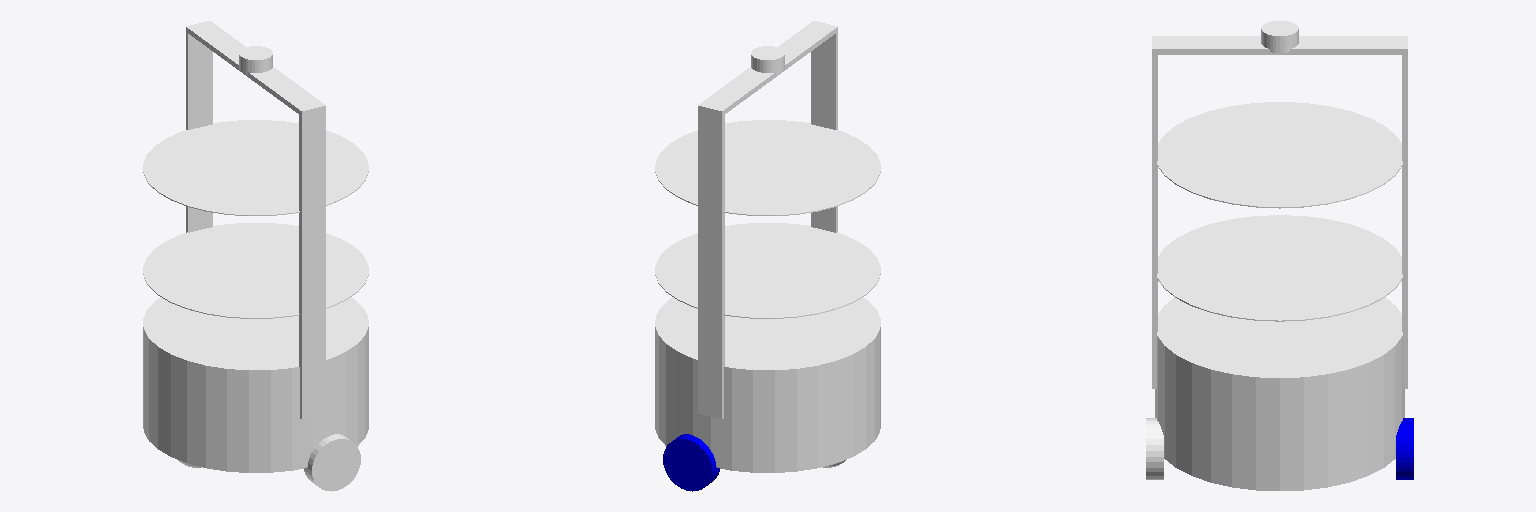
robot.urdf — serving_robot:
<?xml version="1.0" ?>
<!-- =================================================================================== -->
<!-- |    This document was autogenerated by xacro from [local-path]/ws_chickfac/src/serbot/urdf/serving_robot.xacro | -->
<!-- |    EDITING THIS FILE BY HAND IS NOT RECOMMENDED                                 | -->
<!-- =================================================================================== -->
<robot name="serving_robot">
  <!-- Specify some standard inertial calculations https://en.wikipedia.org/wiki/List_of_moments_of_inertia -->
  <!-- These make use of xacro's mathematical functionality -->
  <gazebo>
    <plugin filename="libgazebo_ros_diff_drive.so" name="diff_drive_controller">
      <ros>
        <namespace>robot</namespace>
        <remapping>cmd_vel:=/cmd_vel</remapping>
        <remapping>odom:=/odom</remapping>
      </ros>
      <!-- Wheel Information -->
      <left_joint>left_wheel_joint</left_joint>
      <right_joint>right_wheel_joint</right_joint>
      <wheel_separation>0.35</wheel_separation>
      <wheel_radius>0.05</wheel_radius>
      <wheel_diameter>0.1</wheel_diameter>
      <update_rate>50</update_rate>
      <!-- Limits -->
      <max_wheel_torque>200</max_wheel_torque>
      <max_wheel_acceleration>10.0</max_wheel_acceleration>
      <!-- Output -->
      <odometry_frame>odom</odometry_frame>
      <robot_base_frame>base_link</robot_base_frame>
      <publish_odom>true</publish_odom>
      <publish_odom_tf>true</publish_odom_tf>
      <publish_wheel_tf>true</publish_wheel_tf>
    </plugin>
  </gazebo>
  <gazebo reference="laser_frame">
    <material>Gazebo/White</material>
    <sensor name="laser" type="ray">
      <pose>0 0 0 0 0 0</pose>
      <visualize>true</visualize>
      <update_rate>10</update_rate>
      <ray>
        <scan>
          <horizontal>
            <samples>360</samples>
            <min_angle>-3.14</min_angle>
            <max_angle>3.14</max_angle>
          </horizontal>
        </scan>
        <range>
          <min>0.3</min>
          <max>12</max>
        </range>
      </ray>
      <plugin filename="libgazebo_ros_laser.so" name="laser">
        <ros>
          <namespace>robot</namespace>
          <remapping>scan:=/scan</remapping>
        </ros>
        <frame_name>laser_frame</frame_name>
        <update_rate>30</update_rate>
      </plugin>
    </sensor>
  </gazebo>
  <gazebo reference="imu_link">
    <material>Gazebo/White</material>
    <plugin filename="libgazebo_ros_imu_sensor.so" name="imu">
      <ros>
        <namespace>robot</namespace>
        <remapping>imu:=/imu/data</remapping>
      </ros>
      <frame_name>imu_link</frame_name>
      <update_rate>50</update_rate>
    </plugin>
  </gazebo>
  <!-- COLOR -->
  <material name="white">
    <color rgba="1 1 1 1"/>
  </material>
  <material name="blue">
    <color rgba="0 0 1 1"/>
  </material>
  <material name="black">
    <color rgba="0 0 0 1"/>
  </material>
  <material name="red">
    <color rgba="1 0 0 1"/>
  </material>
  <!-- BASE LINK -->
  <link name="base_link">
    </link>
  <!-- BODY LINK -->
  <joint name="body_joint" type="fixed">
    <parent link="base_link"/>
    <child link="body"/>
    <origin xyz="0 0 0"/>
  </joint>
  <link name="body">
    <visual>
      <origin xyz="0.0 0.0 0.1"/>
      <geometry>
        <cylinder length="0.2" radius="0.2"/>
      </geometry>
      <material name="white"/>
    </visual>
    <collision>
      <origin xyz="0.0 0.0 0.1"/>
      <geometry>
        <cylinder length="0.2" radius="0.2"/>
      </geometry>
    </collision>
    <inertial>
      <origin rpy="0 0 0" xyz="0.0 0.0 0.1"/>
      <mass value="5.0"/>
      <inertia ixx="0.06666666666666668" ixy="0.0" ixz="0.0" iyy="0.06666666666666668" iyz="0.0" izz="0.10000000000000002"/>
    </inertial>
  </link>
  <gazebo reference="body">
    <material>Gazebo/White</material>
  </gazebo>
  <!-- LEFT WHEEL LINK -->
  <joint name="left_wheel_joint" type="continuous">
    <parent link="base_link"/>
    <child link="left_wheel"/>
    <origin rpy="-1.5707963267948966 0 0" xyz="0.04 0.2 0"/>
    <axis xyz="0 0 1"/>
  </joint>
  <link name="left_wheel">
    <visual>
      <geometry>
        <cylinder length="0.03" radius="0.05"/>
      </geometry>
      <material name="blue"/>
    </visual>
    <collision>
      <geometry>
        <cylinder length="0.03" radius="0.05"/>
      </geometry>
    </collision>
    <inertial>
      <origin rpy="0 0 0" xyz="0 0 0"/>
      <mass value="0.2"/>
      <inertia ixx="0.00014000000000000001" ixy="0.0" ixz="0.0" iyy="0.00014000000000000001" iyz="0.0" izz="0.00025000000000000006"/>
    </inertial>
  </link>
  <gazebo reference="left_wheel">
    <material>Gazebo/Black</material>
  </gazebo>
  <!-- RIGHT WHEEL LINK -->
  <joint name="right_wheel_joint" type="continuous">
    <parent link="base_link"/>
    <child link="right_wheel"/>
    <origin rpy="1.5707963267948966 0 0" xyz="0.04 -0.2 0"/>
    <axis xyz="0 0 -1"/>
  </joint>
  <link name="right_wheel">
    <visual>
      <geometry>
        <cylinder length="0.03" radius="0.05"/>
      </geometry>
      <material name="white"/>
    </visual>
    <collision>
      <geometry>
        <cylinder length="0.03" radius="0.05"/>
      </geometry>
    </collision>
    <inertial>
      <origin rpy="0 0 0" xyz="0 0 0"/>
      <mass value="0.2"/>
      <inertia ixx="0.00014000000000000001" ixy="0.0" ixz="0.0" iyy="0.00014000000000000001" iyz="0.0" izz="0.00025000000000000006"/>
    </inertial>
  </link>
  <gazebo reference="right_wheel">
    <material>Gazebo/Black</material>
  </gazebo>
  <!-- CASTER WHEEL LINK -->
  <joint name="caster_wheel_joint" type="fixed">
    <parent link="body"/>
    <child link="caster_wheel"/>
    <origin xyz="-0.12 0 0"/>
  </joint>
  <link name="caster_wheel">
    <visual>
      <geometry>
        <sphere radius="0.05"/>
      </geometry>
      <material name="white"/>
    </visual>
    <collision>
      <geometry>
        <sphere radius="0.05"/>
      </geometry>
    </collision>
    <inertial>
      <origin rpy="0 0 0" xyz="0 0 0"/>
      <mass value="0.2"/>
      <inertia ixx="0.0002000000000000001" ixy="0.0" ixz="0.0" iyy="0.0002000000000000001" iyz="0.0" izz="0.0002000000000000001"/>
    </inertial>
  </link>
  <gazebo reference="caster_wheel">
    <material>Gazebo/Blue</material>
    <mu1 value="0.001"/>
    <mu2 value="0.001"/>
  </gazebo>
  <!-- LEFT PANEL LINK -->
  <joint name="left_panel_joint" type="fixed">
    <parent link="body"/>
    <child link="left_panel"/>
    <origin xyz="0 0.2 0.1"/>
  </joint>
  <link name="left_panel">
    <visual>
      <origin xyz="0.0 0.0 0.3"/>
      <geometry>
        <box size="0.05 0.01 0.6"/>
      </geometry>
      <material name="white"/>
    </visual>
    <collision>
      <origin xyz="0.0 0.0 0.3"/>
      <geometry>
        <box size="0.05 0.01 0.6"/>
      </geometry>
    </collision>
    <inertial>
      <origin rpy="0 0 0" xyz="0.0 0.0 0.3"/>
      <mass value="0.1"/>
      <inertia ixx="0.0030008333333333332" ixy="0.0" ixz="0.0" iyy="0.0030208333333333333" iyz="0.0" izz="2.166666666666667e-05"/>
    </inertial>
  </link>
  <gazebo reference="left_panel">
    <material>Gazebo/White</material>
  </gazebo>
  <!-- RIGHT PANEL LINK -->
  <joint name="right_panel_joint" type="fixed">
    <parent link="body"/>
    <child link="right_panel"/>
    <origin xyz="0 -0.2 0.1"/>
  </joint>
  <link name="right_panel">
    <visual>
      <origin xyz="0.0 0.0 0.3"/>
      <geometry>
        <box size="0.05 0.01 0.6"/>
      </geometry>
      <material name="white"/>
    </visual>
    <collision>
      <origin xyz="0.0 0.0 0.3"/>
      <geometry>
        <box size="0.05 0.01 0.6"/>
      </geometry>
    </collision>
    <inertial>
      <origin rpy="0 0 0" xyz="0.0 0.0 0.3"/>
      <mass value="0.1"/>
      <inertia ixx="0.0030008333333333332" ixy="0.0" ixz="0.0" iyy="0.0030208333333333333" iyz="0.0" izz="2.166666666666667e-05"/>
    </inertial>
  </link>
  <gazebo reference="right_panel">
    <material>Gazebo/White</material>
  </gazebo>
  <!-- TOP PANEL LINK -->
  <joint name="top_panel_joint" type="fixed">
    <parent link="right_panel"/>
    <child link="top_panel"/>
    <origin xyz="0 0.2 0.59"/>
  </joint>
  <link name="top_panel">
    <visual>
      <origin xyz="0.0 0.0 0.005"/>
      <geometry>
        <box size="0.05 0.4 0.01"/>
      </geometry>
      <material name="white"/>
    </visual>
    <collision>
      <origin xyz="0.0 0.0 0.005"/>
      <geometry>
        <box size="0.05 0.4 0.01"/>
      </geometry>
    </collision>
    <inertial>
      <origin rpy="0 0 0" xyz="0.0 0.0 0.005"/>
      <mass value="0.1"/>
      <inertia ixx="0.0013341666666666669" ixy="0.0" ixz="0.0" iyy="2.166666666666667e-05" iyz="0.0" izz="0.001354166666666667"/>
    </inertial>
  </link>
  <gazebo reference="top_panel">
    <material>Gazebo/White</material>
  </gazebo>
  <!-- TRAY1 LINK -->
  <joint name="tray1_joint" type="fixed">
    <parent link="right_panel"/>
    <child link="tray1"/>
    <origin xyz="0 0.2 0.2"/>
  </joint>
  <link name="tray1">
    <visual>
      <origin xyz="0.0 0.0 0.001"/>
      <geometry>
        <cylinder length="0.002" radius="0.2"/>
      </geometry>
      <material name="white"/>
    </visual>
    <collision>
      <origin xyz="0.0 0.0 0.001"/>
      <geometry>
        <cylinder length="0.002" radius="0.2"/>
      </geometry>
    </collision>
    <inertial>
      <origin rpy="0 0 0" xyz="0.0 0.0 0.001"/>
      <mass value="0.005"/>
      <inertia ixx="5.000166666666667e-05" ixy="0.0" ixz="0.0" iyy="5.000166666666667e-05" iyz="0.0" izz="0.00010000000000000002"/>
    </inertial>
  </link>
  <gazebo reference="tray1">
    <material>Gazebo/Black</material>
  </gazebo>
  <!-- TRAY2 LINK -->
  <joint name="tray2_joint" type="fixed">
    <parent link="right_panel"/>
    <child link="tray2"/>
    <origin xyz="0 0.2 0.4"/>
  </joint>
  <link name="tray2">
    <visual>
      <origin xyz="0.0 0.0 0.001"/>
      <geometry>
        <cylinder length="0.002" radius="0.2"/>
      </geometry>
      <material name="white"/>
    </visual>
    <collision>
      <origin xyz="0.0 0.0 0.001"/>
      <geometry>
        <cylinder length="0.002" radius="0.2"/>
      </geometry>
    </collision>
    <inertial>
      <origin rpy="0 0 0" xyz="0.0 0.0 0.001"/>
      <mass value="0.005"/>
      <inertia ixx="5.000166666666667e-05" ixy="0.0" ixz="0.0" iyy="5.000166666666667e-05" iyz="0.0" izz="0.00010000000000000002"/>
    </inertial>
  </link>
  <gazebo reference="tray2">
    <material>Gazebo/Black</material>
  </gazebo>
  <!-- LiDAR -->
  <joint name="laser_joint" type="fixed">
    <parent link="body"/>
    <child link="laser_frame"/>
    <origin rpy="0 0 0" xyz="0 0 0.71"/>
  </joint>
  <link name="laser_frame">
    <visual>
      <geometry>
        <cylinder length="0.03" radius="0.03"/>
      </geometry>
      <material name="white"/>
    </visual>
    <collision>
      <geometry>
        <cylinder length="0.03" radius="0.03"/>
      </geometry>
    </collision>
  </link>
  <!-- Imu -->
  <joint name="imu_joint" type="fixed">
    <parent link="base_link"/>
    <child link="imu_link"/>
    <origin rpy="0 0 0" xyz="0 0 0.68"/>
  </joint>
  <link name="imu_link"/>
</robot>

--- Render facts (derived) ---
3 views of the same robot in one strip: view 1: azimuth 30°, elevation 25°; view 2: azimuth 150°, elevation 25°; view 3: azimuth 270°, elevation 25° (orthographic).
Model serving_robot with 12 links and 11 joints (2 continuous, 9 fixed), rooted at base_link, posed all joints at 0.
Visible links, largest first — view 1: body, tray1, tray2, right_panel, left_panel, top_panel, right_wheel, laser_frame; view 2: body, tray1, tray2, left_panel, right_panel, top_panel, left_wheel, laser_frame; view 3: body, tray1, tray2, top_panel, left_panel, right_panel, left_wheel, right_wheel, laser_frame.
Link boxes in pixels (x1=…): body: x1=143, y1=297, x2=368, y2=472; tray1: x1=143, y1=223, x2=368, y2=318; tray2: x1=143, y1=120, x2=368, y2=215; right_panel: x1=299, y1=103, x2=325, y2=418; left_panel: x1=186, y1=21, x2=212, y2=232; top_panel: x1=187, y1=23, x2=322, y2=114; right_wheel: x1=304, y1=434, x2=360, y2=491; laser_frame: x1=239, y1=46, x2=272, y2=74; body: x1=655, y1=297, x2=880, y2=472; tray1: x1=655, y1=223, x2=880, y2=318; tray2: x1=655, y1=120, x2=880, y2=215; left_panel: x1=698, y1=103, x2=724, y2=418; right_panel: x1=811, y1=21, x2=837, y2=232; top_panel: x1=701, y1=23, x2=836, y2=113; left_wheel: x1=663, y1=434, x2=719, y2=491; laser_frame: x1=751, y1=46, x2=784, y2=74; body: x1=1155, y1=298, x2=1404, y2=490; tray1: x1=1157, y1=215, x2=1402, y2=321; tray2: x1=1157, y1=102, x2=1402, y2=208; top_panel: x1=1155, y1=36, x2=1404, y2=54; left_panel: x1=1402, y1=36, x2=1407, y2=388; right_panel: x1=1152, y1=36, x2=1157, y2=388; left_wheel: x1=1396, y1=418, x2=1413, y2=479; right_wheel: x1=1146, y1=418, x2=1163, y2=479; laser_frame: x1=1261, y1=21, x2=1298, y2=52.
Size in the robot's own frame: 0.4 by 0.43 by 0.775 metres.
Geometry: primitives only (box / cylinder / sphere), no mesh files.
